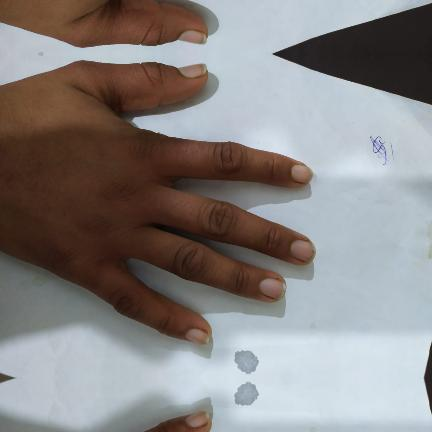Nail: (259, 278, 286, 300), (291, 240, 316, 263), (178, 63, 207, 78), (178, 30, 207, 45), (185, 329, 209, 346), (185, 410, 209, 427), (291, 165, 313, 183)
